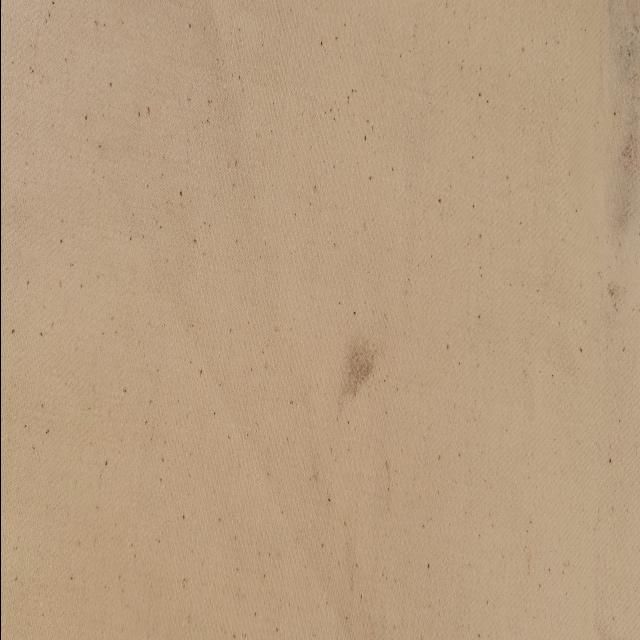taaaches: (315, 319, 399, 419)
